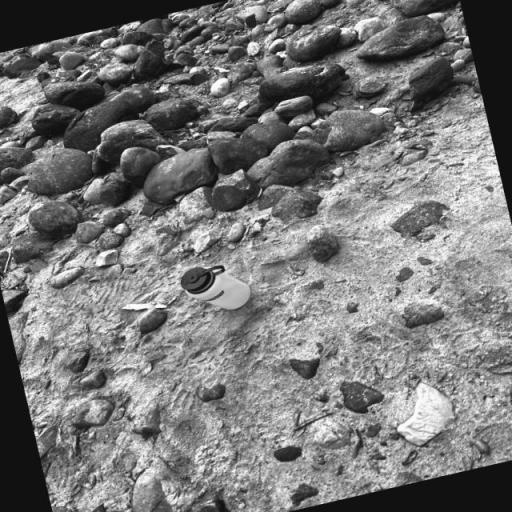bottle: (178, 255, 254, 319)
